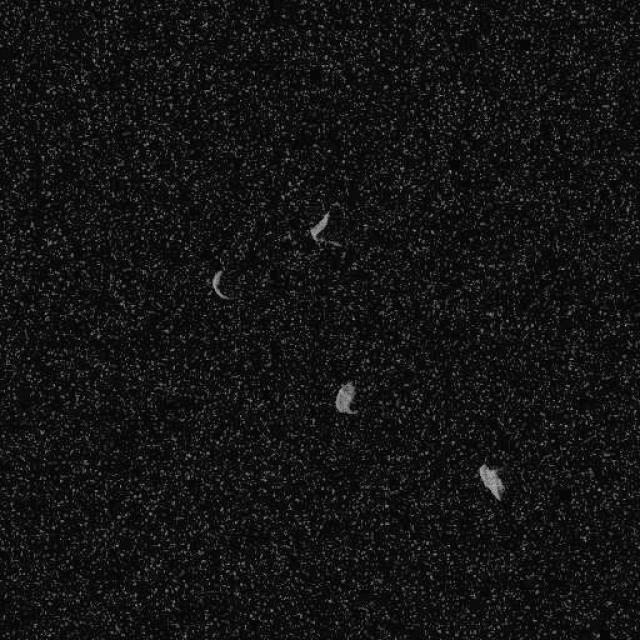D2: (476, 461, 505, 501), (332, 379, 358, 415), (306, 208, 330, 242), (210, 268, 232, 300)
